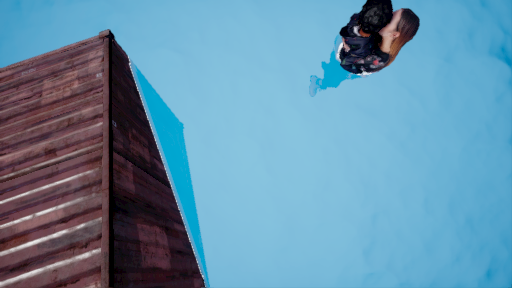person: (313, 1, 418, 102)
